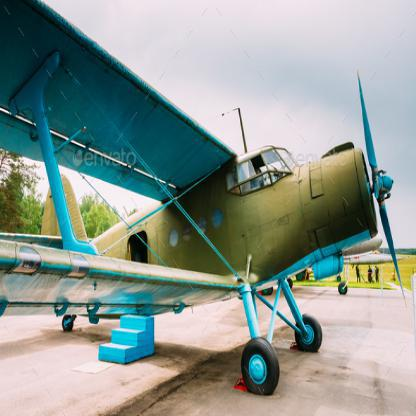CIV_Plane: (1, 2, 402, 392)
